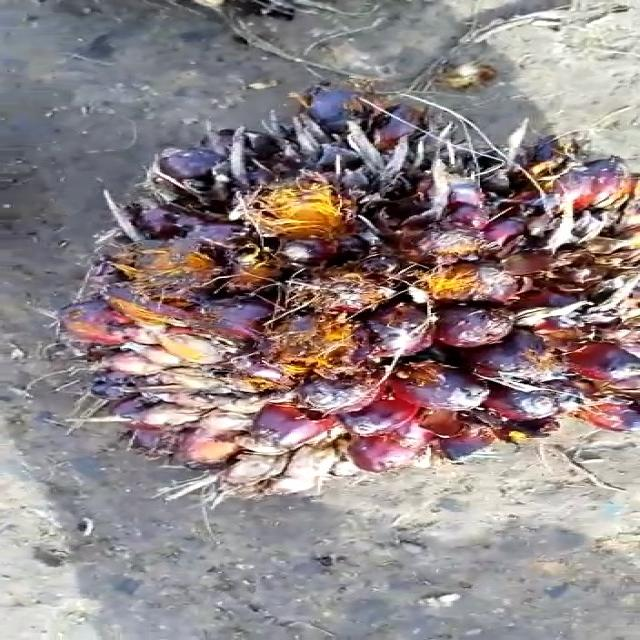palm oil: (63, 65, 640, 492)
